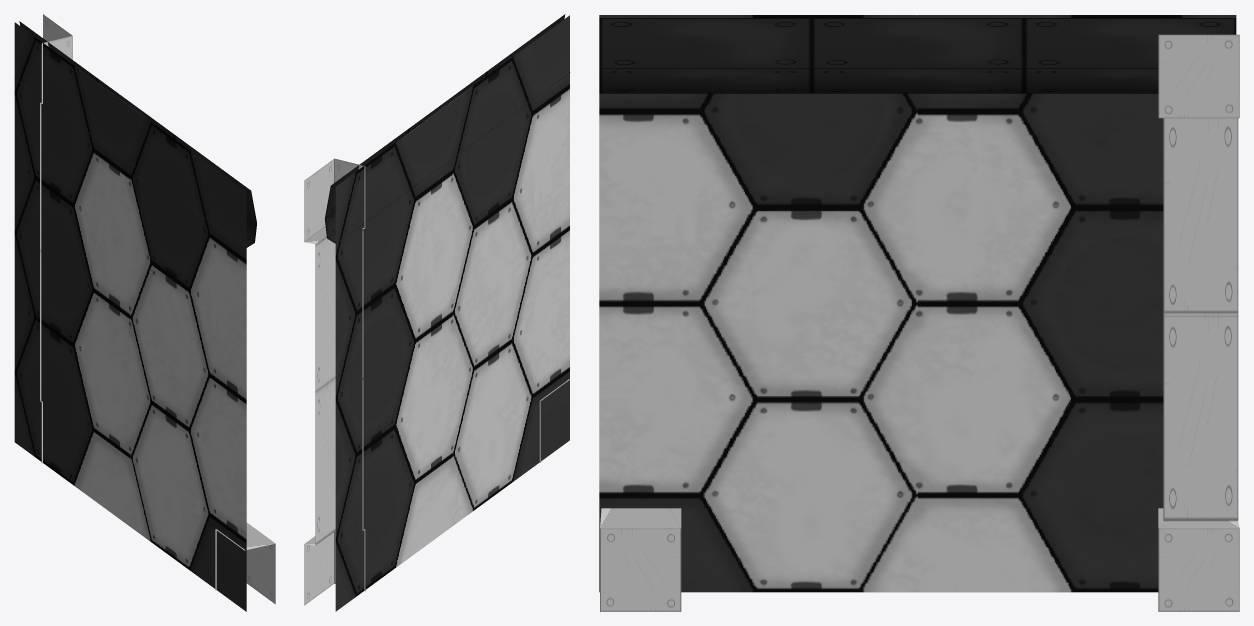
The model's file is Wall_TopRightLCorner.fbx.
3 renders of one model, left to right at view 1: azimuth 30°, elevation 25°; view 2: azimuth 150°, elevation 25°; view 3: azimuth 270°, elevation 25°, orthographic. The views are drawn at different scales.
Parts seen in each view (by area): view 1: pPlane136; view 2: pPlane136; view 3: pPlane136.
Boxes of the visible parts, x1,y1,x2,y2 form: pPlane136: (14, 14, 275, 611); pPlane136: (304, 14, 570, 611); pPlane136: (599, 15, 1239, 611).
Bounding box in the file's own units: 0.1534 × 2 × 2.01.
